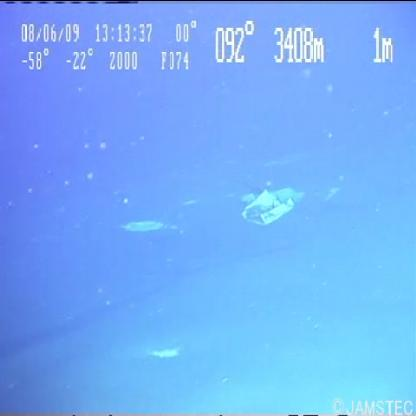Bio: (118, 216, 186, 237)
Rác: (234, 179, 313, 238)
